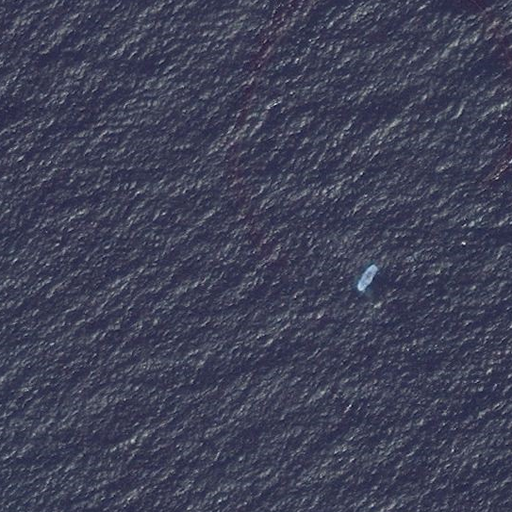ship: (355, 261, 380, 295)
